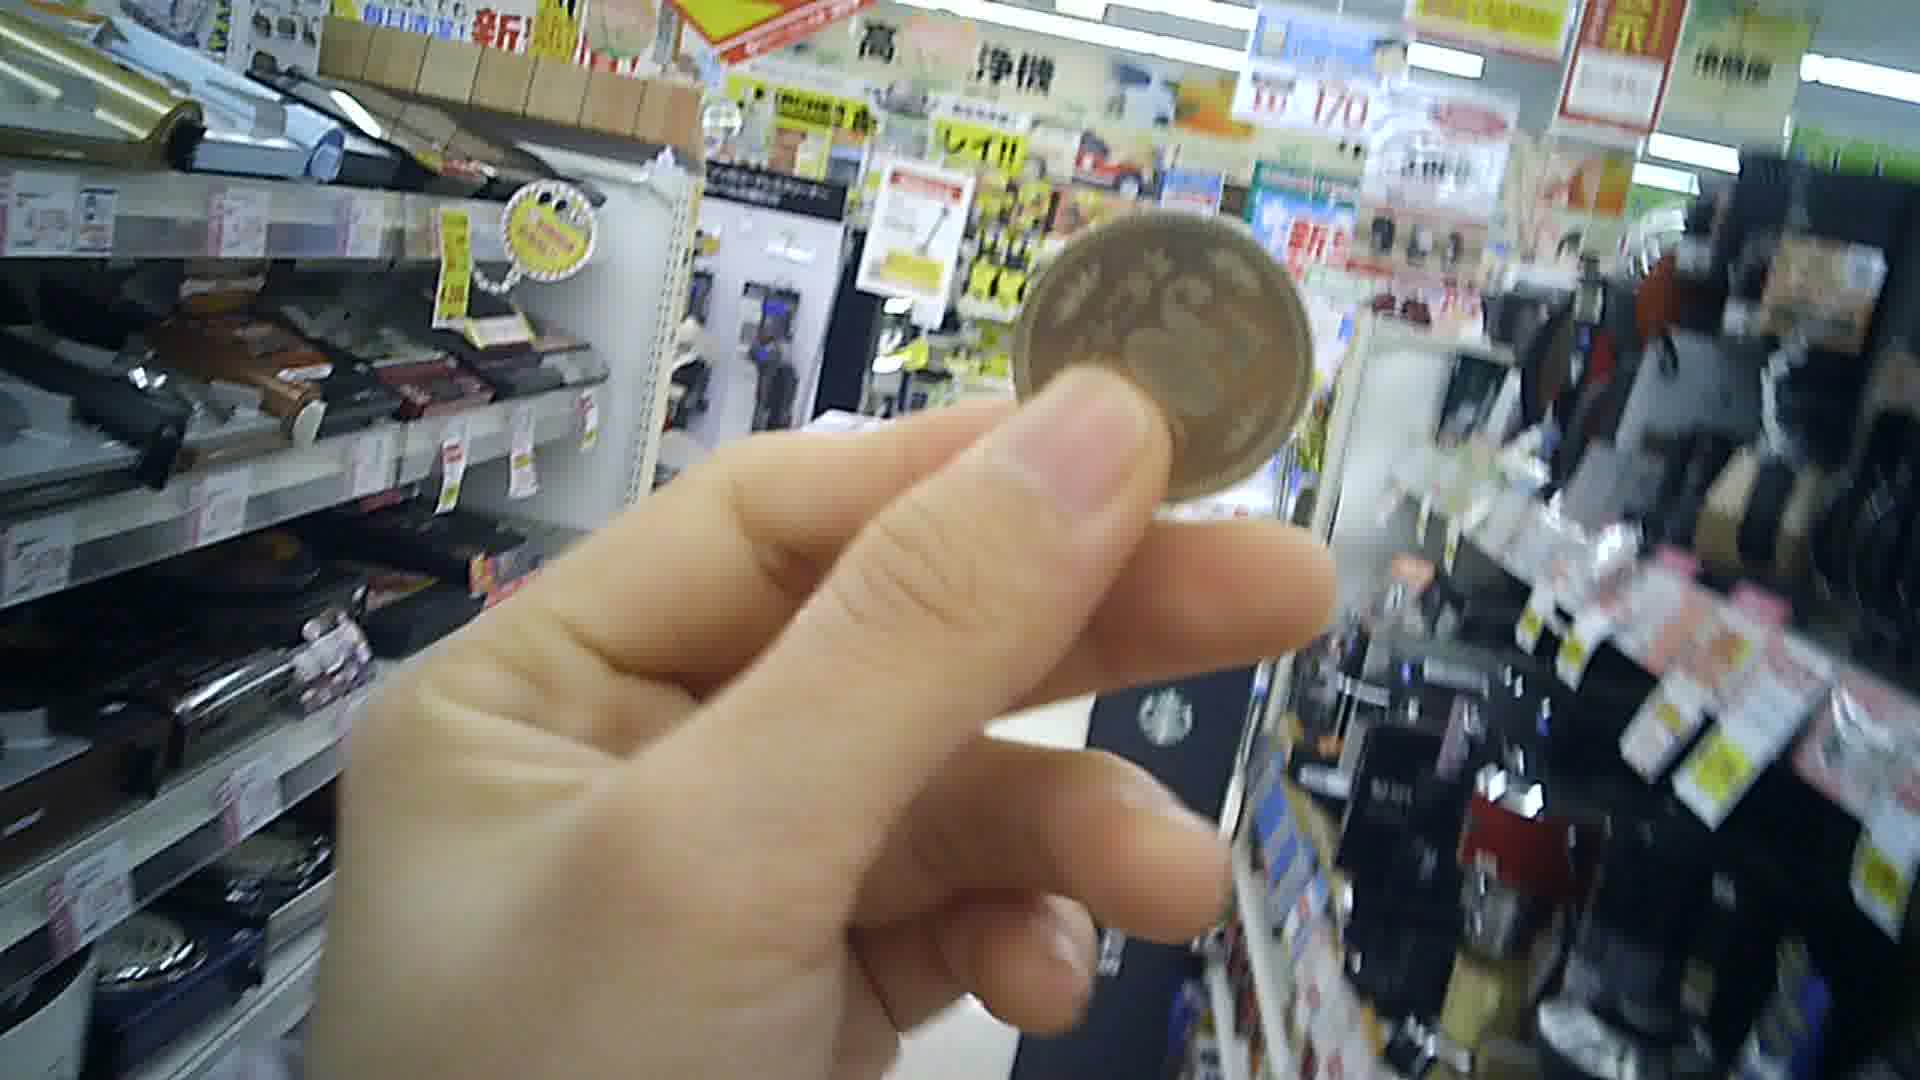500 Yen: (1018, 211, 1323, 502)
